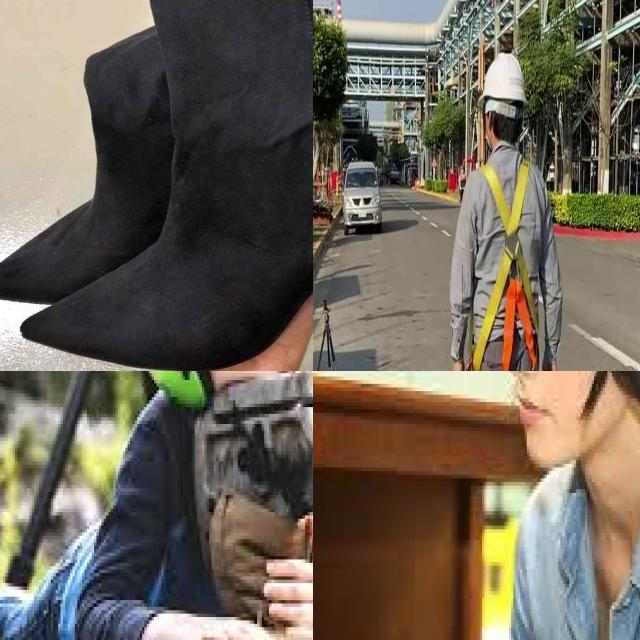Harness: (468, 160, 540, 371)
Sandals: (0, 0, 313, 371)
